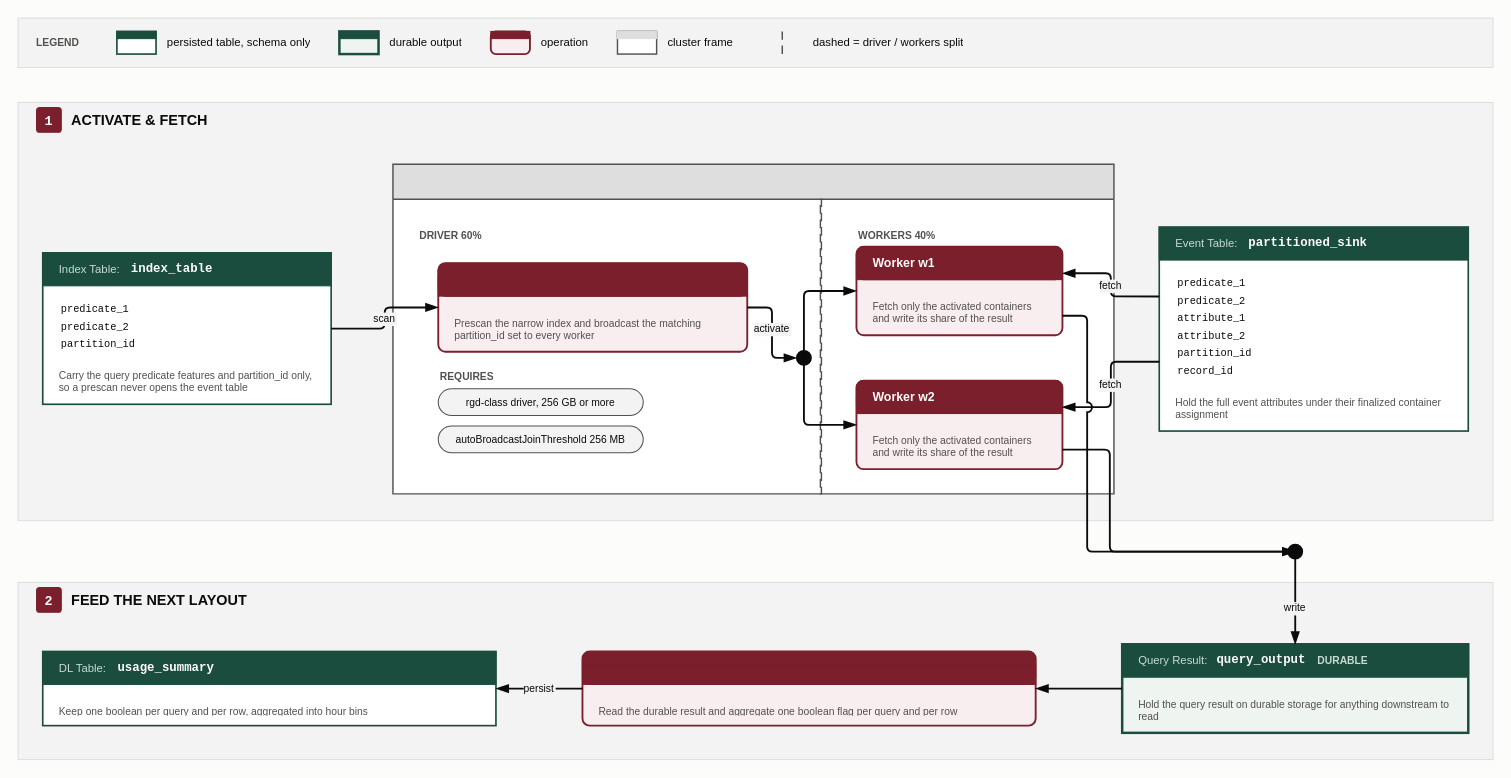
The diagram is 1511 pixels wide and 778 high, and some of its shapes have lost their labels. The box of each missing label's shape, as (x1, y1, x2, y2) in pixels:
DATABRICKS CLUSTER: (392, 163, 1114, 494)
Driver: (437, 277, 747, 296)
Usage Statistics Collector: (581, 665, 1036, 684)
